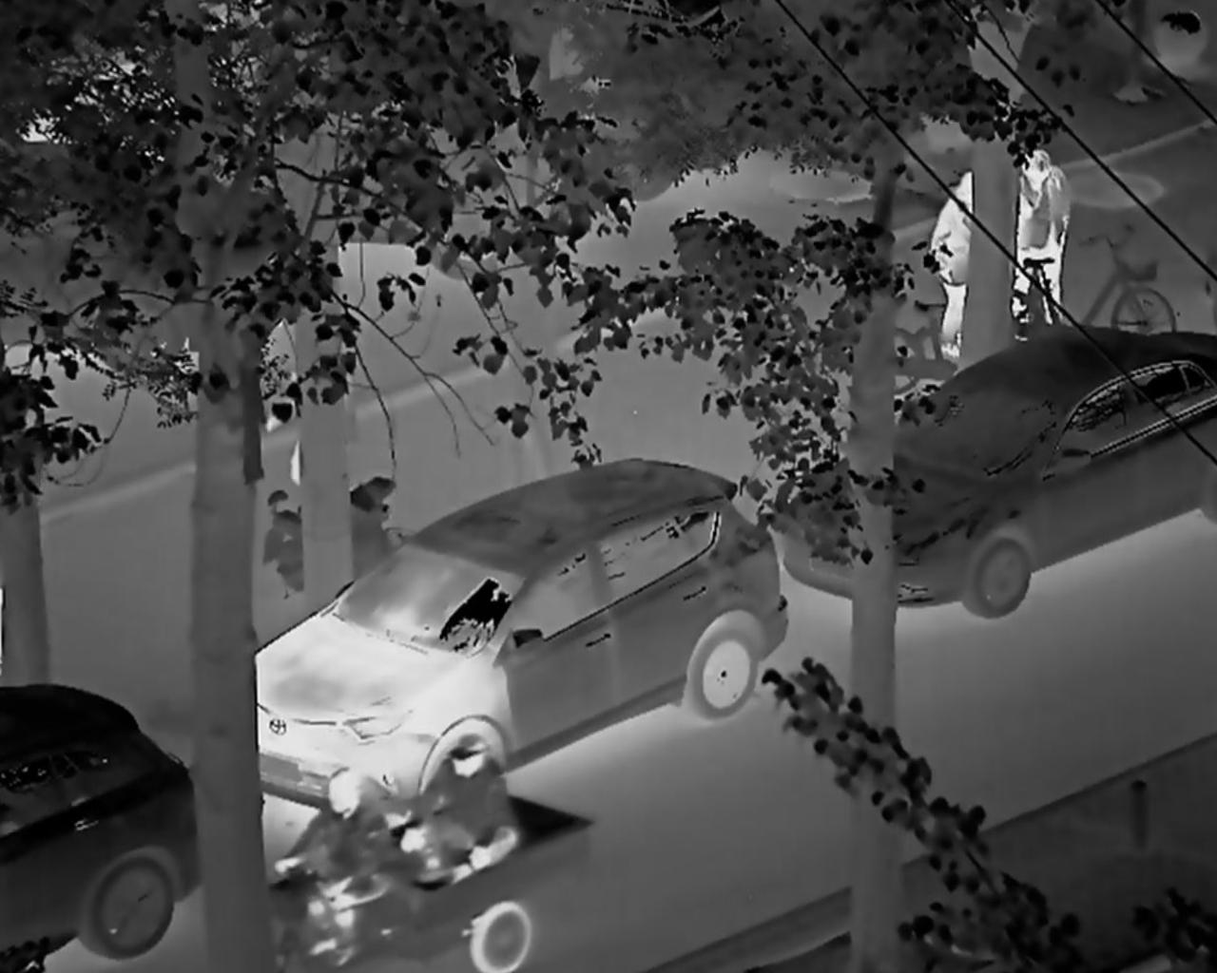person: (290, 760, 396, 966), (410, 733, 533, 893), (1003, 126, 1086, 336), (928, 151, 988, 353)
